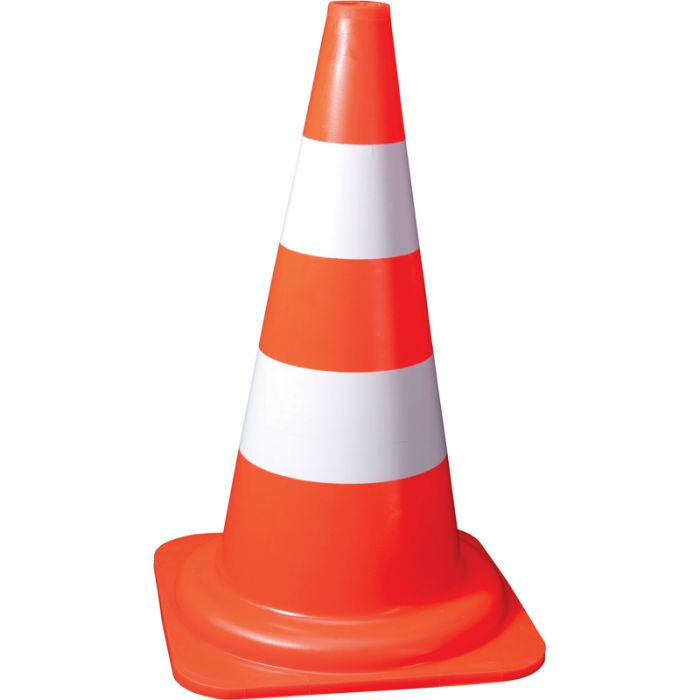Road_cone: (155, 3, 548, 689)
